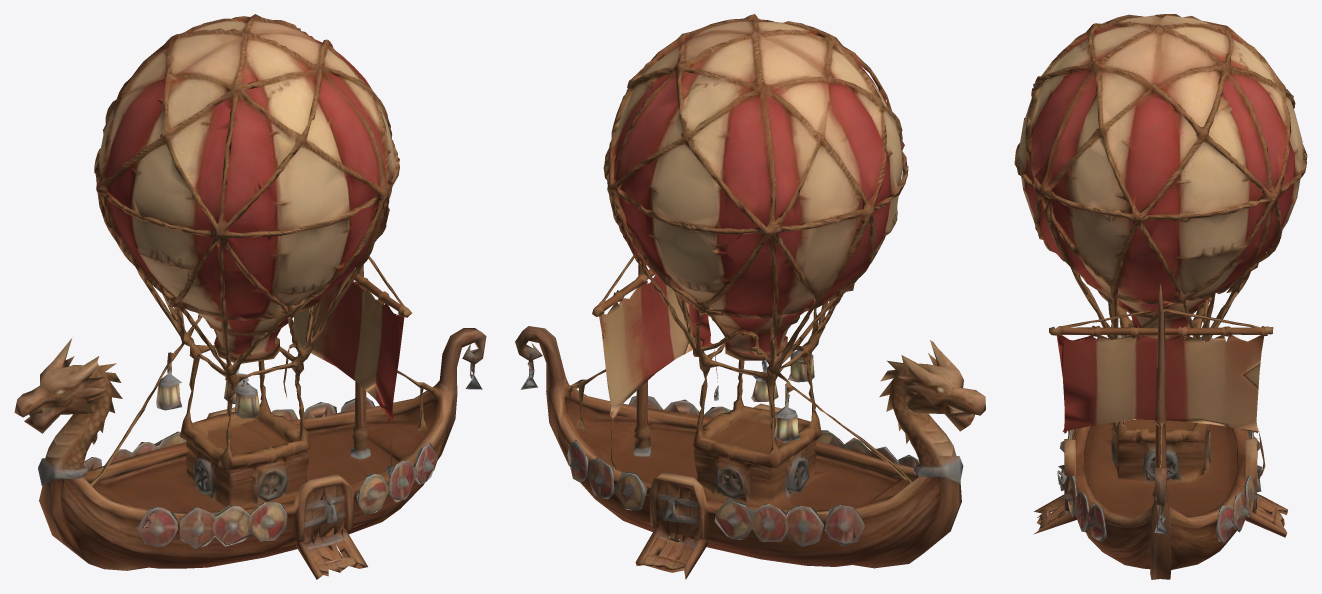
File: airship.glb
3 renders of one model, left to right at view 1: azimuth 30°, elevation 25°; view 2: azimuth 150°, elevation 25°; view 3: azimuth 270°, elevation 25°, orthographic. The views are drawn at different scales.
Parts seen in each view (by area): view 1: tripo_node_c53528b9-70c7-4ab9-92d2-8ca6c23b10fd; view 2: tripo_node_c53528b9-70c7-4ab9-92d2-8ca6c23b10fd; view 3: tripo_node_c53528b9-70c7-4ab9-92d2-8ca6c23b10fd.
Part boxes in pixels (x1,y1,x2,y2): tripo_node_c53528b9-70c7-4ab9-92d2-8ca6c23b10fd: (14, 14, 486, 579); tripo_node_c53528b9-70c7-4ab9-92d2-8ca6c23b10fd: (515, 14, 985, 579); tripo_node_c53528b9-70c7-4ab9-92d2-8ca6c23b10fd: (1014, 14, 1307, 579).
Size of the model in its own units: 0.9466 by 0.9806 by 0.5295.
Materials: 1 (1 with a texture image).
